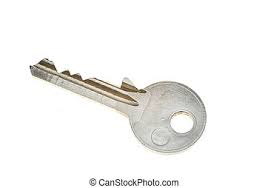key: (18, 48, 222, 155)
